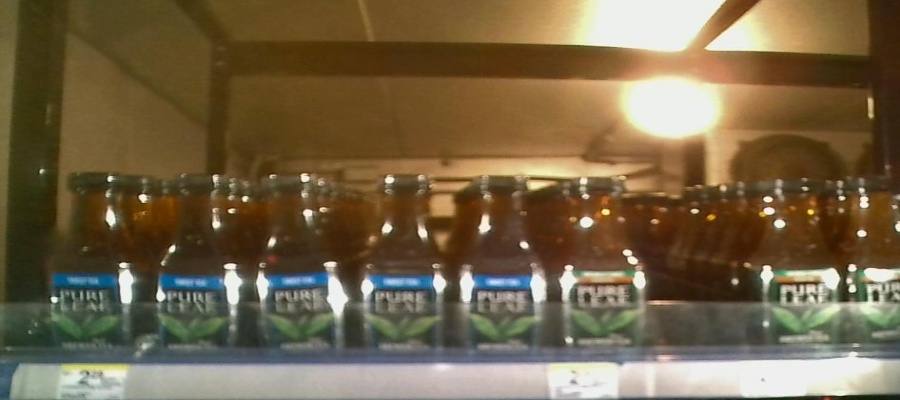bottle: (358, 166, 454, 364), (47, 164, 147, 352), (255, 168, 353, 357), (152, 169, 251, 355), (460, 162, 551, 364), (555, 167, 647, 359), (749, 175, 846, 356), (847, 172, 892, 358)
